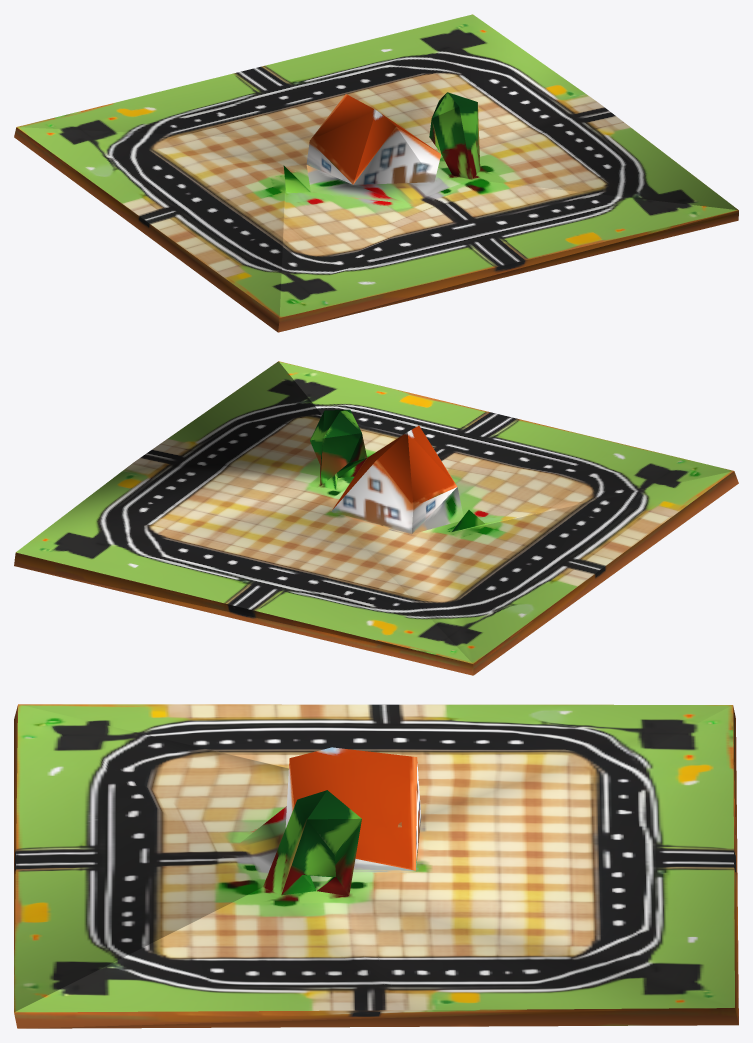
Rendered from family-play-rug.glb.
3 views of the same model, one above another, from view 1: azimuth 30°, elevation 25°; view 2: azimuth 150°, elevation 25°; view 3: azimuth 270°, elevation 25° (orthographic). The views are drawn at different scales.
Visible parts, largest first — view 1: geometry_0; view 2: geometry_0; view 3: geometry_0.
Boxes of the visible parts, <box> form: geometry_0: <box>14,14,738,332</box>; geometry_0: <box>14,361,738,675</box>; geometry_0: <box>14,704,738,1028</box>.
Size of the model in its own units: 0.9965 by 0.182 by 0.9917.
Materials: 1 (1 with a texture image).
